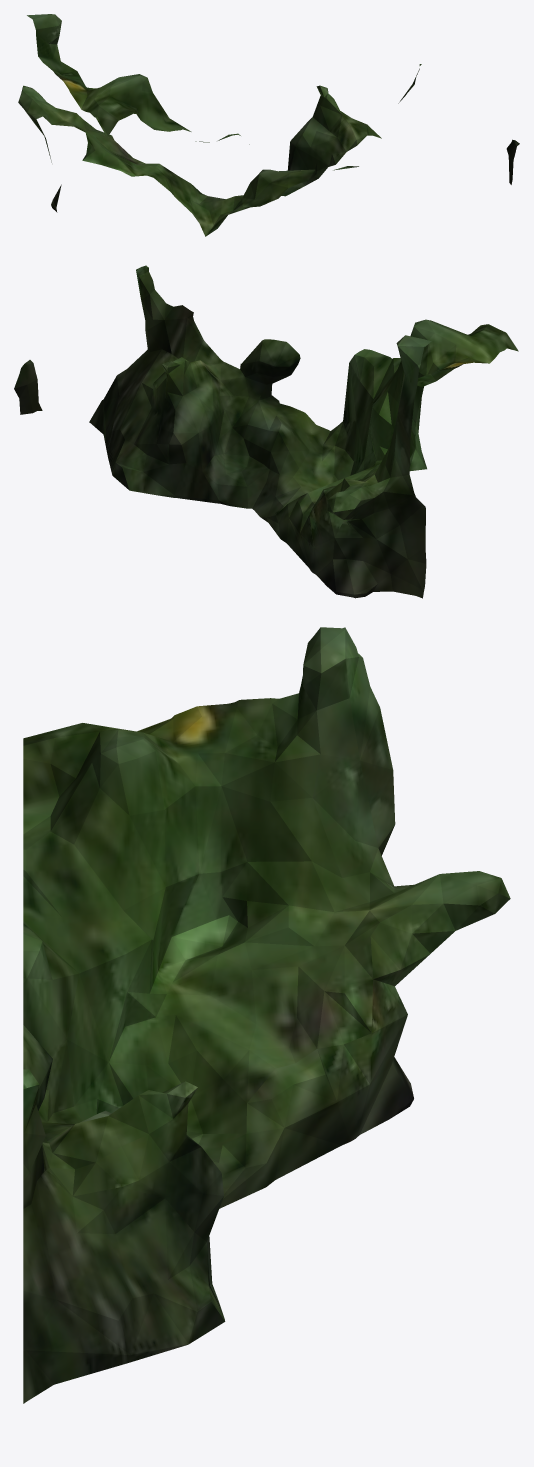
The picture shows the model from 3 angles, top to bottom: view 1: azimuth 30°, elevation 25°; view 2: azimuth 150°, elevation 25°; view 3: azimuth 270°, elevation 25°; orthographic projection. The views are drawn at different scales.
Bounding box in the file's own units: 0.8374 × 0.4095 × 0.4278.
Materials: 2 (2 with a texture image).
